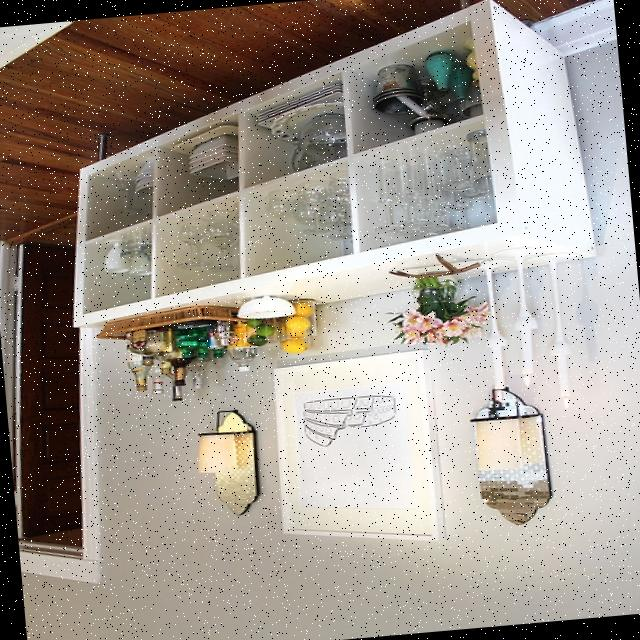Shelf: (42, 0, 603, 334)
